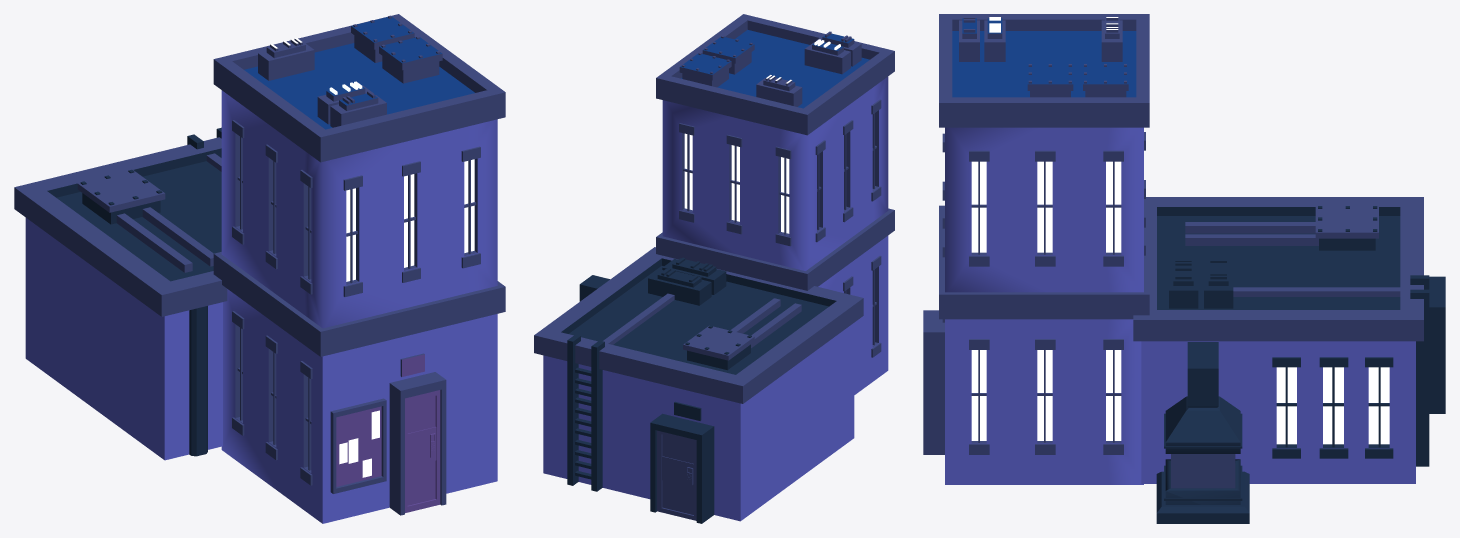
3 views of the same model, side by side, from view 1: azimuth 30°, elevation 25°; view 2: azimuth 150°, elevation 25°; view 3: azimuth 270°, elevation 25° (orthographic). The views are drawn at different scales.
Parts seen in each view (by area): view 1: Building 02.006; view 2: Building 02.006; view 3: Building 02.006.
Boxes of the visible parts, <box> form: Building 02.006: <box>14,14,505,523</box>; Building 02.006: <box>534,14,894,523</box>; Building 02.006: <box>923,14,1445,523</box>.
Bounding box in the file's own units: 10.36 × 12.16 × 14.35.
